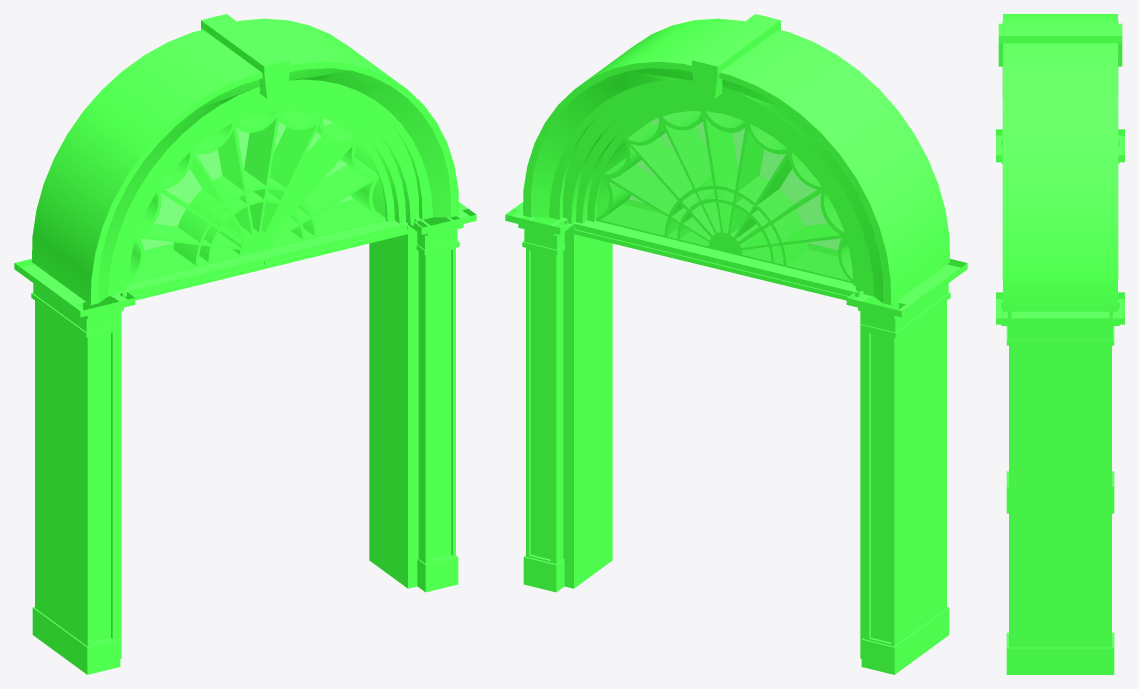
File: arch_green.dae
The picture shows the model from 3 angles, left to right: view 1: azimuth 30°, elevation 25°; view 2: azimuth 150°, elevation 25°; view 3: azimuth 270°, elevation 25°; orthographic projection. The views are drawn at different scales.
Parts seen in each view (by area): view 1: Component#1_003, Component#1_001, Component#1_007, Component#1_005; view 2: Component#1_007, Component#1_005, Component#1_003, Component#1_001; view 3: Component#1_001, Component#1_005, Component#1_003, Component#1_007.
Boxes of the visible parts, <box> form: Component#1_003: <box>28,29,277,674</box>; Component#1_001: <box>237,41,476,592</box>; Component#1_007: <box>14,17,256,668</box>; Component#1_005: <box>214,14,462,588</box>; Component#1_007: <box>704,29,953,674</box>; Component#1_005: <box>505,31,744,592</box>; Component#1_003: <box>725,17,967,668</box>; Component#1_001: <box>519,14,767,588</box>; Component#1_001: <box>996,29,1098,674</box>; Component#1_005: <box>1030,29,1124,674</box>; Component#1_003: <box>996,14,1075,513</box>; Component#1_007: <box>1068,14,1124,513</box>.
Size of the model in its own units: 101 by 139 by 29.25.
